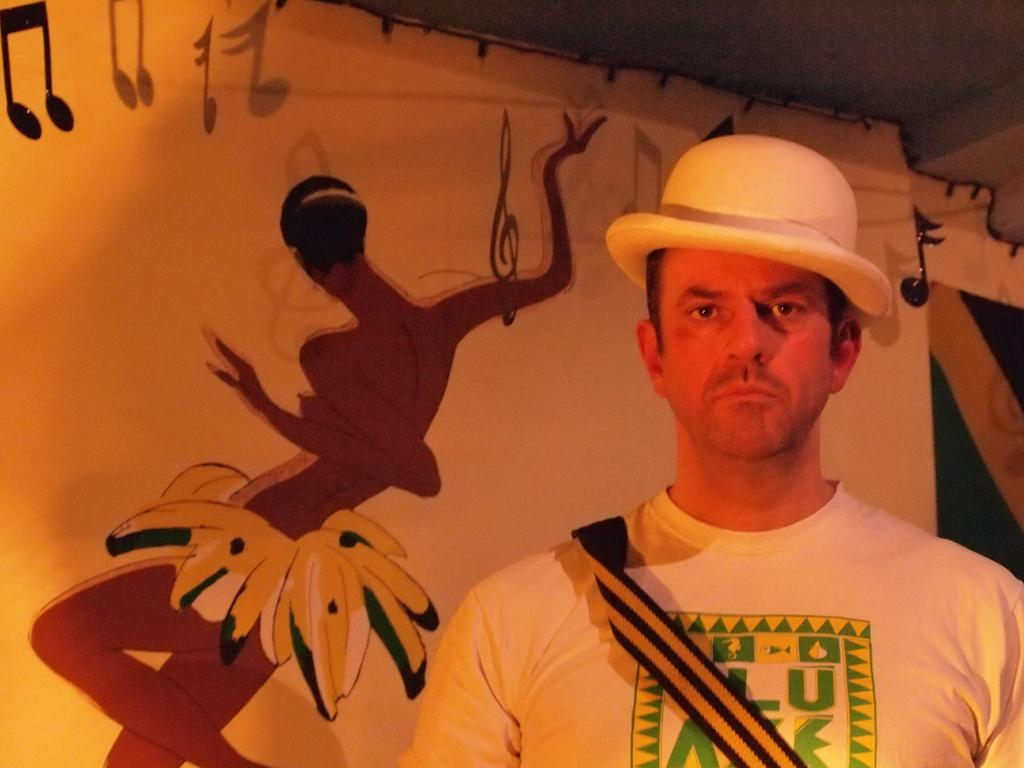Hat: (604, 133, 894, 333)
